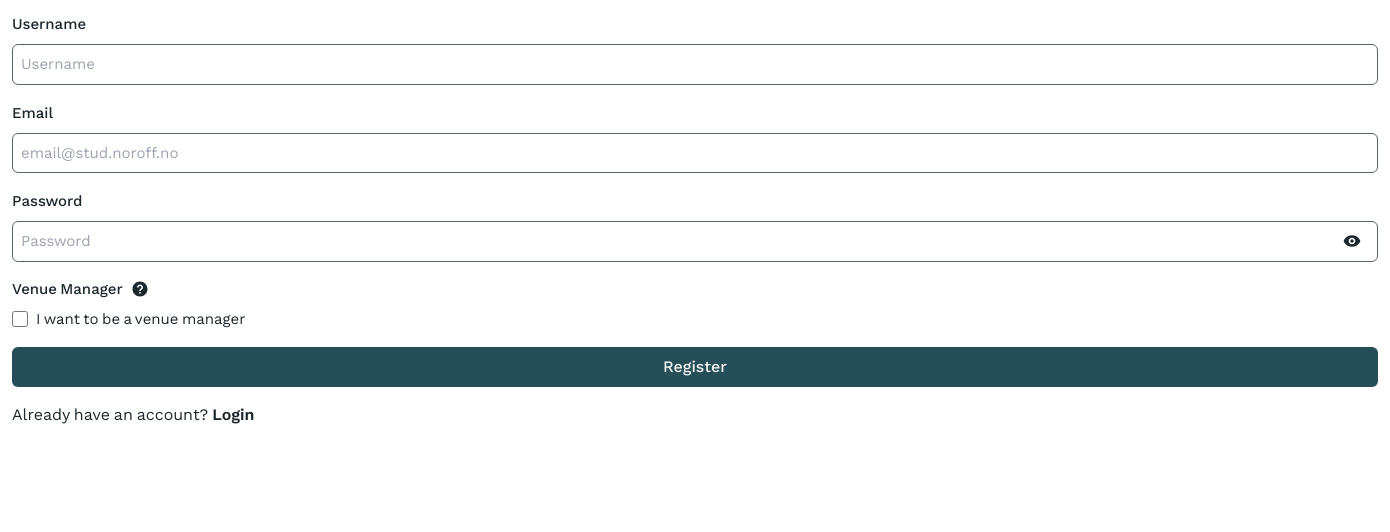
RegisterForm › should display validation errors on empty form submission
Click the button "Register" at coordinates (695, 366), box [12,346,1378,386]
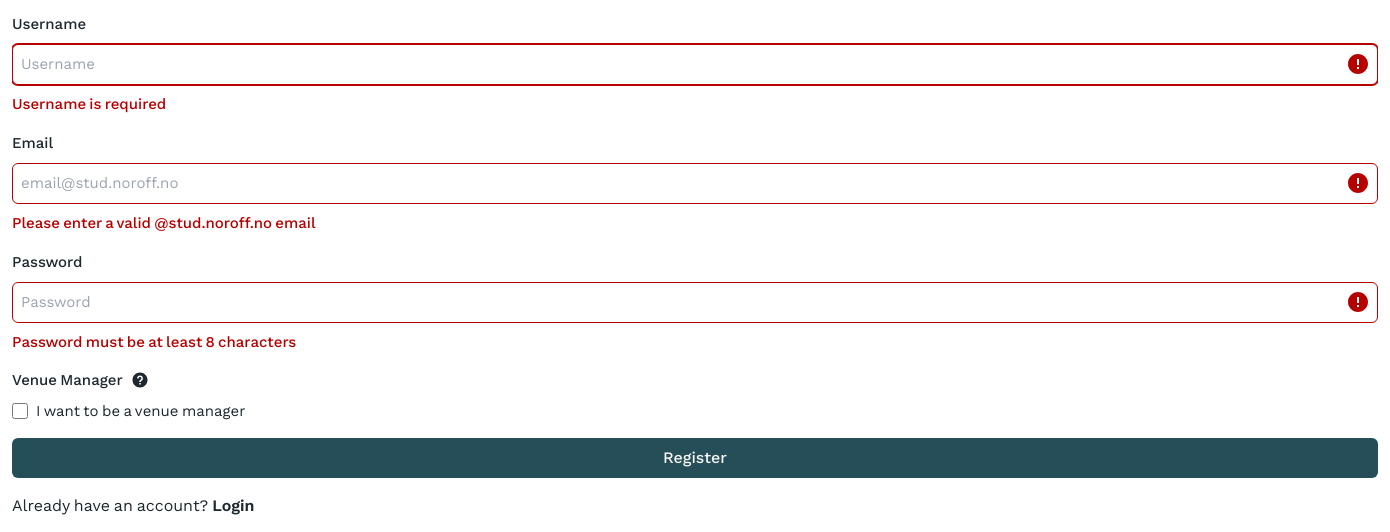
Result: the text "Username is required" is shown at [12,94,166,112]
Result: the text "Please enter a valid @stud.noroff.no email" is shown at [12,214,316,232]
Result: the text "Password must be at least 8 characters" is shown at [12,332,296,350]
